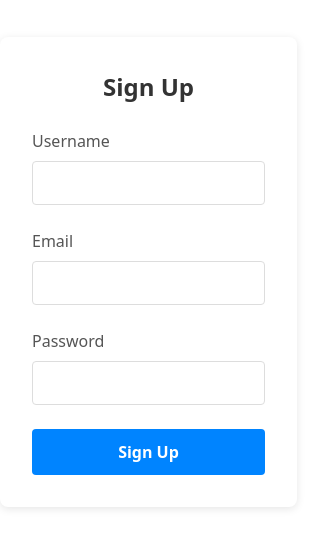
Test case: AuthForm › should show error when email is empty in signup mode
Type "testuser" into the field labelled "Username".
click(148, 183); type("testuser")  # box [32,161,265,205]
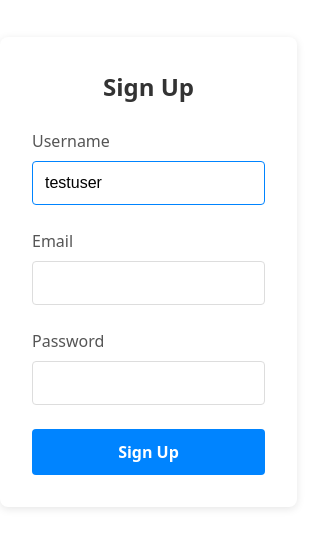
Type "password123" into the password field labelled "Password".
click(148, 383); type("password123")  # box [32,361,265,405]
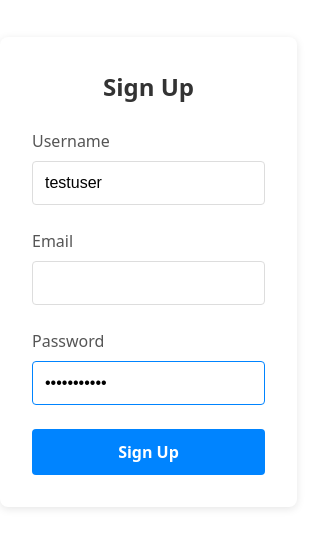
Click the button "Sign Up".
click(148, 452)  # box [32,429,265,475]
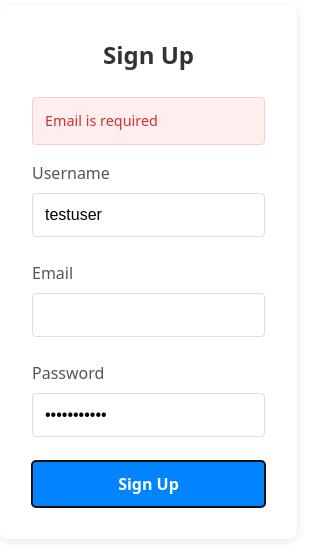
Now the message reads "Email is required", box [45,111,158,130]
